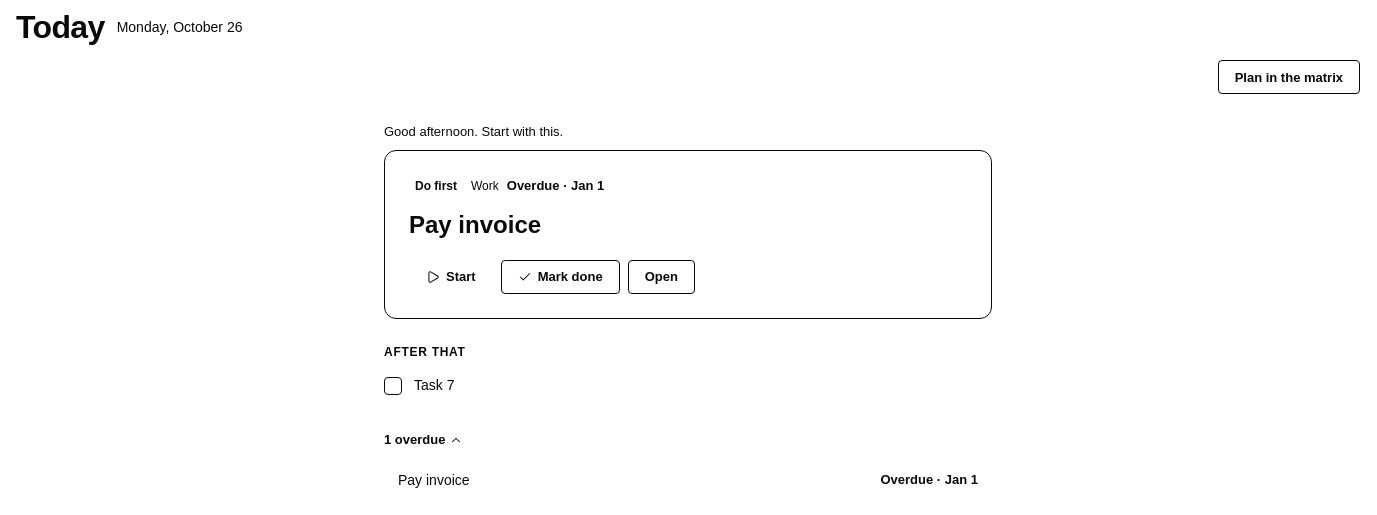
Test case: TodayPage › lists overdue tasks immediately and allows collapsing them
Check: the list named "Overdue tasks" shows "Pay invoice", box [388, 462, 988, 499]
What coordinates should you click on to do the following:
click the button "1 overdue"
I would click on:
 (424, 440)
Its box is [384, 430, 463, 450].
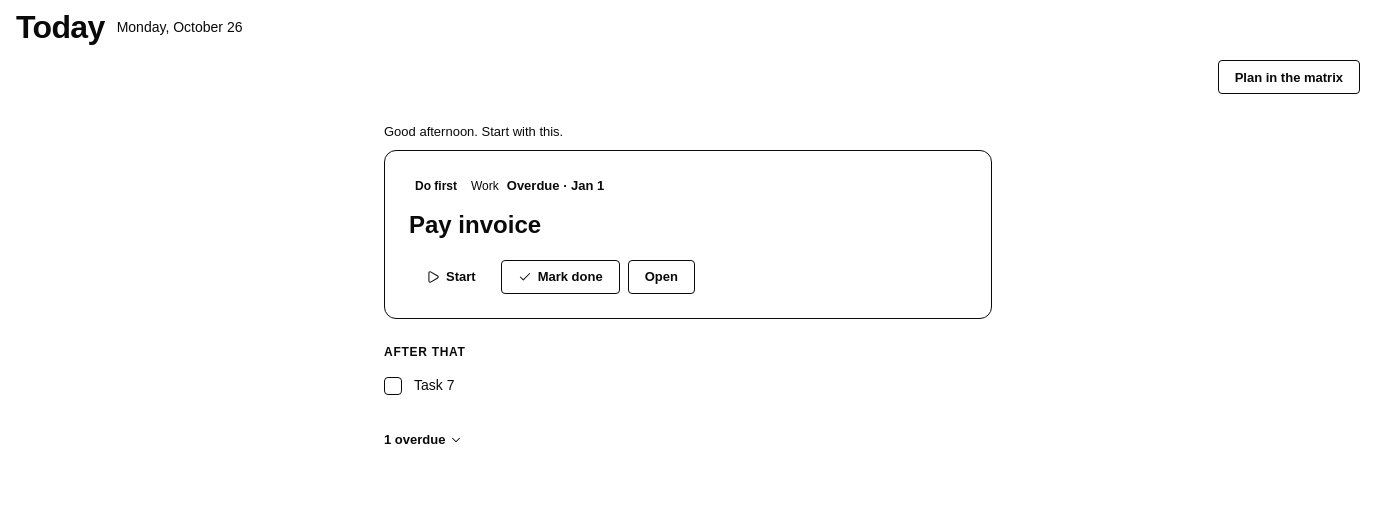
Check: the button "1 overdue" is collapsed, box [384, 430, 463, 450]
